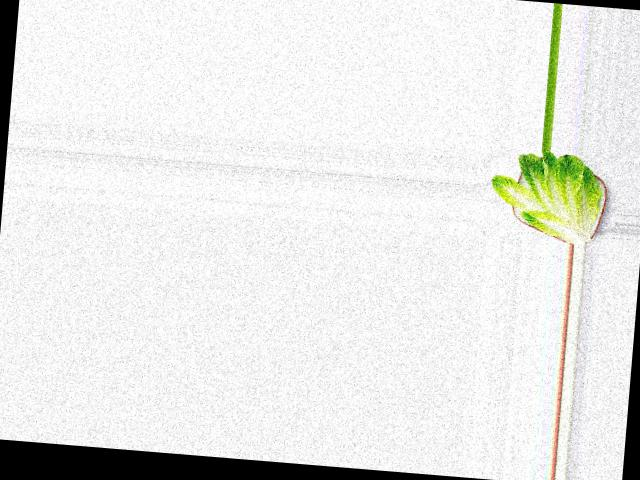lettuce: (485, 145, 611, 243)
